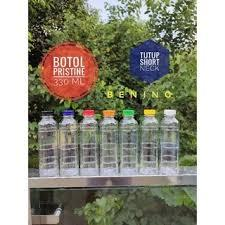BIODEGRADABLE: (36, 106, 65, 186), (96, 110, 123, 176), (59, 110, 83, 181), (79, 106, 103, 175), (137, 108, 161, 175), (121, 106, 143, 177), (161, 109, 182, 179)
